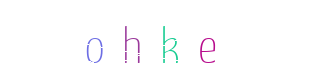E: (131, 0, 211, 80)
H: (120, 0, 200, 80)
K: (128, 0, 208, 80)
O: (84, 0, 164, 80)
